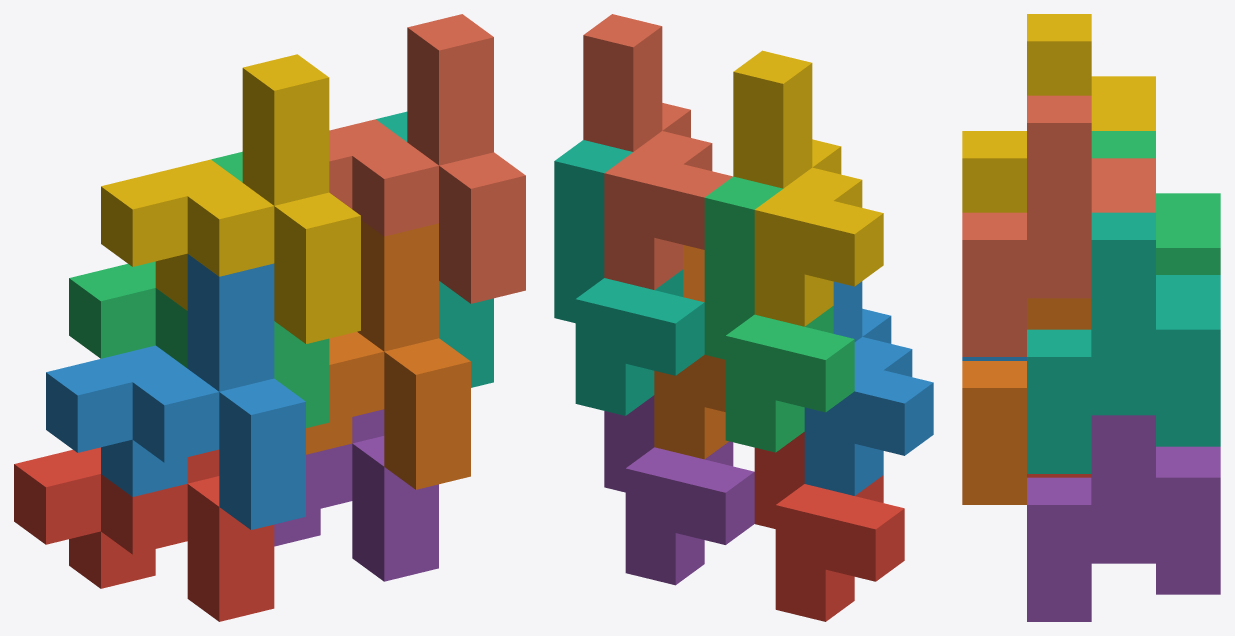
Rendered from tiling.obj.
3 views of the same model, side by side, from view 1: azimuth 30°, elevation 25°; view 2: azimuth 150°, elevation 25°; view 3: azimuth 270°, elevation 25° (orthographic). The views are drawn at different scales.
Parts seen in each view (by area): view 1: copy_1_domain_2, copy_1_domain_4, copy_1_domain_8, copy_1_domain_6, copy_1_domain_1, copy_1_domain_5, copy_1_domain_3, copy_1_domain_7; view 2: copy_1_domain_4, copy_1_domain_8, copy_1_domain_3, copy_1_domain_7, copy_1_domain_1, copy_1_domain_5, copy_1_domain_2, copy_1_domain_6; view 3: copy_1_domain_7, copy_1_domain_5, copy_1_domain_8, copy_1_domain_4, copy_1_domain_6, copy_1_domain_3.
Boxes of the visible parts, <box> form: copy_1_domain_2: <box>46,254,305,529</box>; copy_1_domain_4: <box>101,54,360,343</box>; copy_1_domain_8: <box>329,14,525,303</box>; copy_1_domain_6: <box>306,220,470,489</box>; copy_1_domain_1: <box>14,447,274,621</box>; copy_1_domain_5: <box>274,409,438,581</box>; copy_1_domain_3: <box>69,151,329,427</box>; copy_1_domain_7: <box>376,111,493,387</box>; copy_1_domain_4: <box>733,50,883,326</box>; copy_1_domain_8: <box>583,14,732,289</box>; copy_1_domain_3: <box>704,176,854,452</box>; copy_1_domain_7: <box>554,140,704,415</box>; copy_1_domain_1: <box>754,432,904,621</box>; copy_1_domain_5: <box>604,395,754,585</box>; copy_1_domain_2: <box>804,281,933,495</box>; copy_1_domain_6: <box>654,245,728,459</box>; copy_1_domain_7: <box>1027,212,1220,473</box>; copy_1_domain_5: <box>1027,415,1220,621</box>; copy_1_domain_8: <box>962,95,1155,356</box>; copy_1_domain_4: <box>962,14,1155,212</box>; copy_1_domain_6: <box>962,298,1091,504</box>; copy_1_domain_3: <box>1091,131,1220,274</box>.
Bounding box in the file's own units: 7 × 9 × 4.
